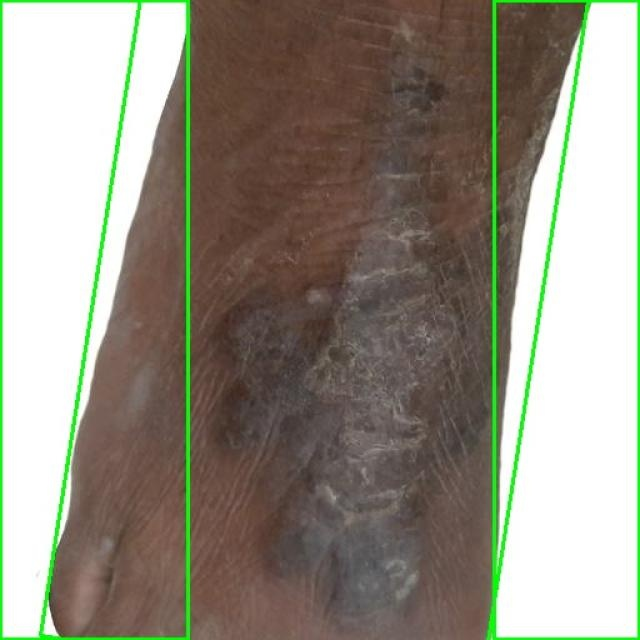Eczema: (41, 0, 589, 640), (0, 0, 188, 639), (494, 0, 639, 639)
